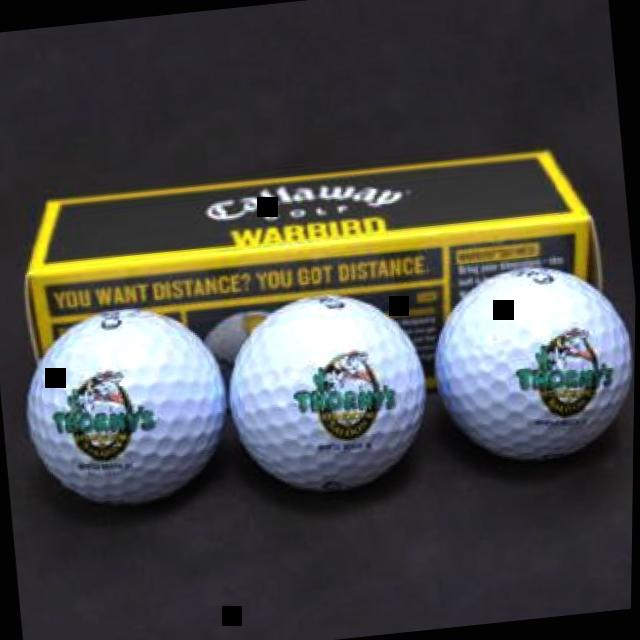golf ball: (214, 270, 443, 508), (10, 292, 235, 526), (415, 245, 637, 480)
